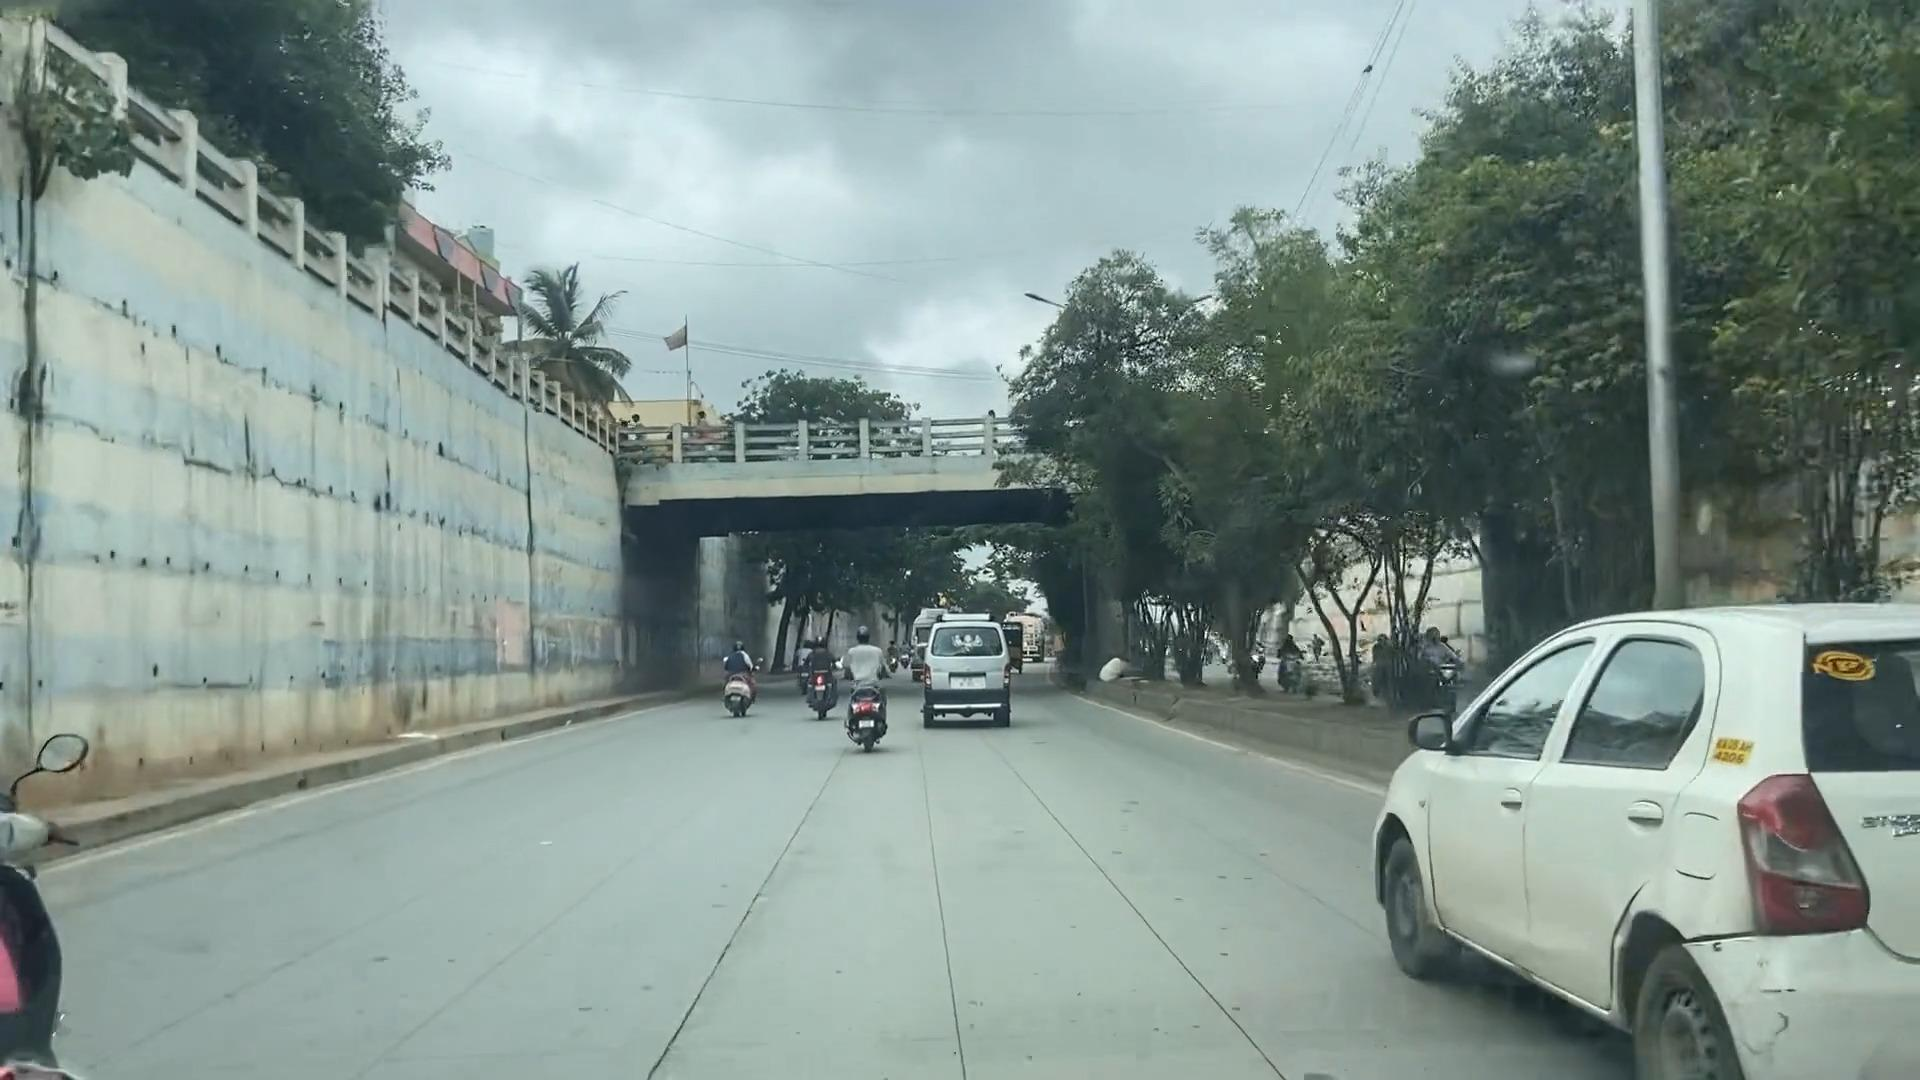LMV: (1350, 616, 1920, 1080)
